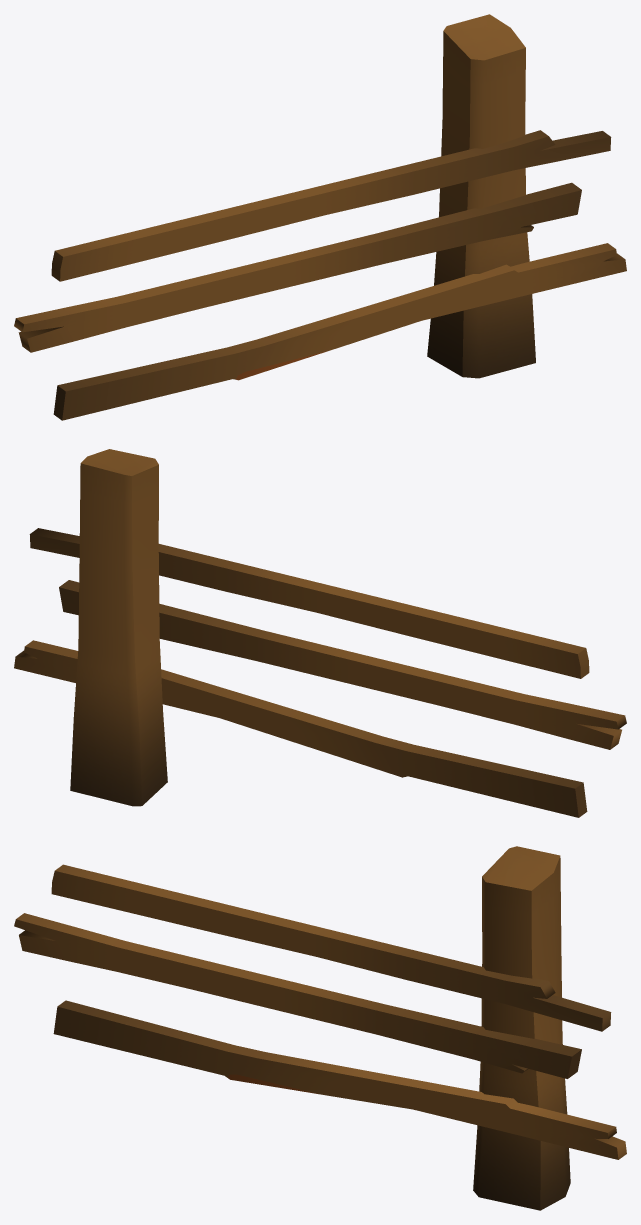
The model's file is RoadFenceWood_Sml-02.FBX.
3 views of the same model, one above another, from view 1: azimuth 30°, elevation 25°; view 2: azimuth 150°, elevation 25°; view 3: azimuth 330°, elevation 25° (orthographic).
Visible parts, largest first — view 1: RoadFenceWood_Sml-02; view 2: RoadFenceWood_Sml-02; view 3: RoadFenceWood_Sml-02.
Boxes of the visible parts, x1,y1,x2,y2 form: RoadFenceWood_Sml-02: (14,14,626,420); RoadFenceWood_Sml-02: (14,449,626,817); RoadFenceWood_Sml-02: (14,846,626,1210).
Size of the model in its own units: 271 by 140 by 33.67.
1 material, 1 textured.
